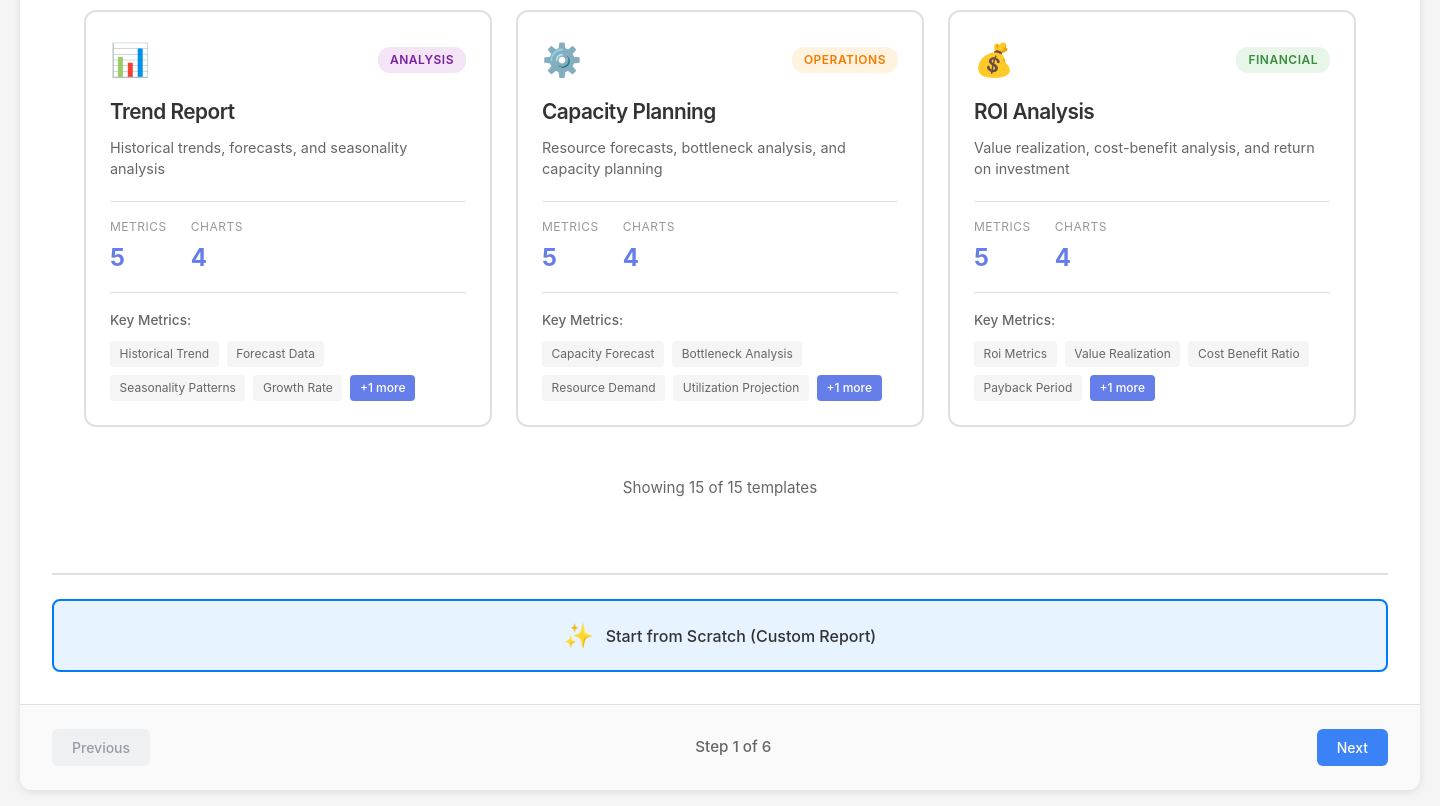
Test: ReportBuilder › shows metrics step after navigating through wizard
(page scrolled)
Click the button "Next": (1352, 748) [1317, 729, 1388, 766]
(page scrolled)
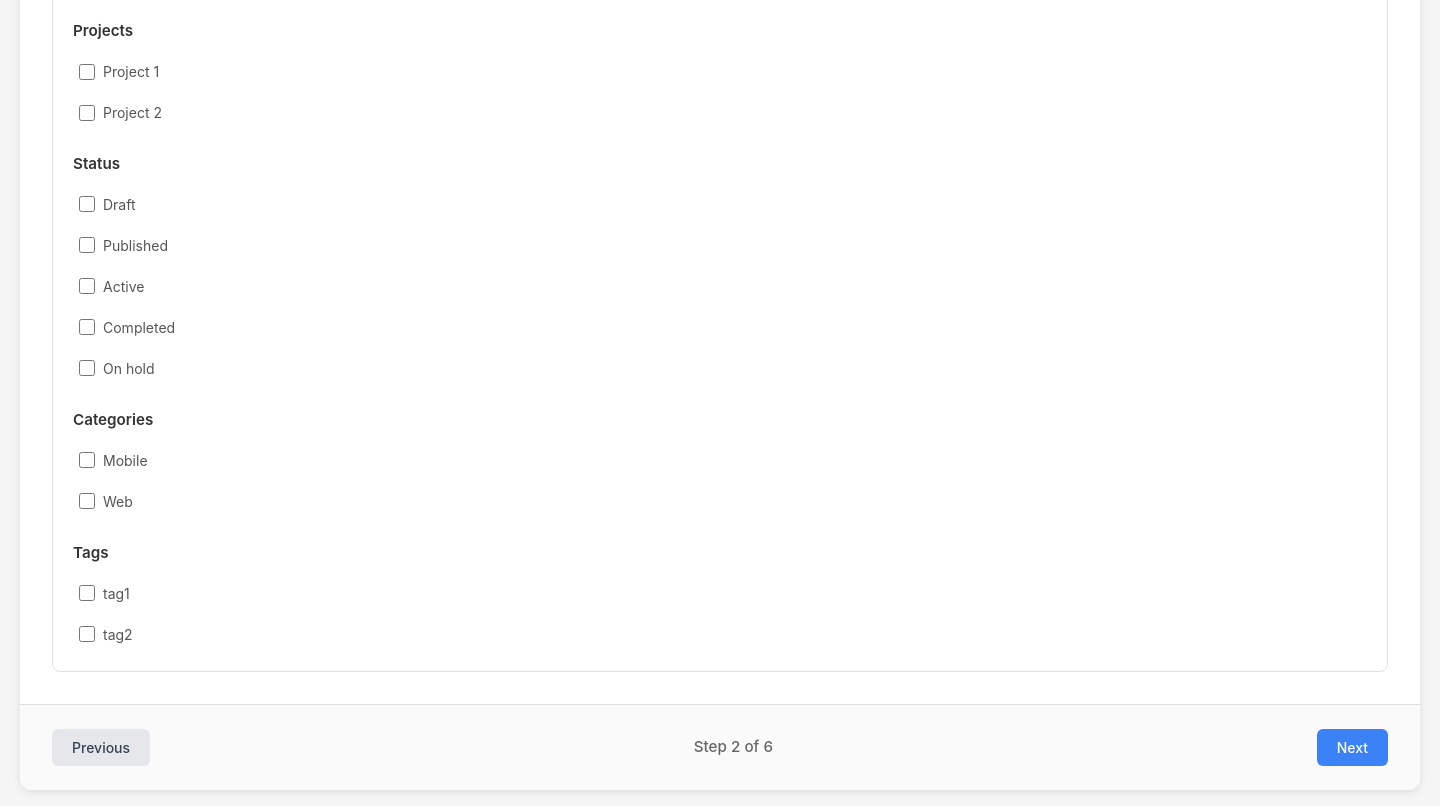
Click the button "Next": (1352, 747) [1317, 729, 1388, 766]
(page scrolled)
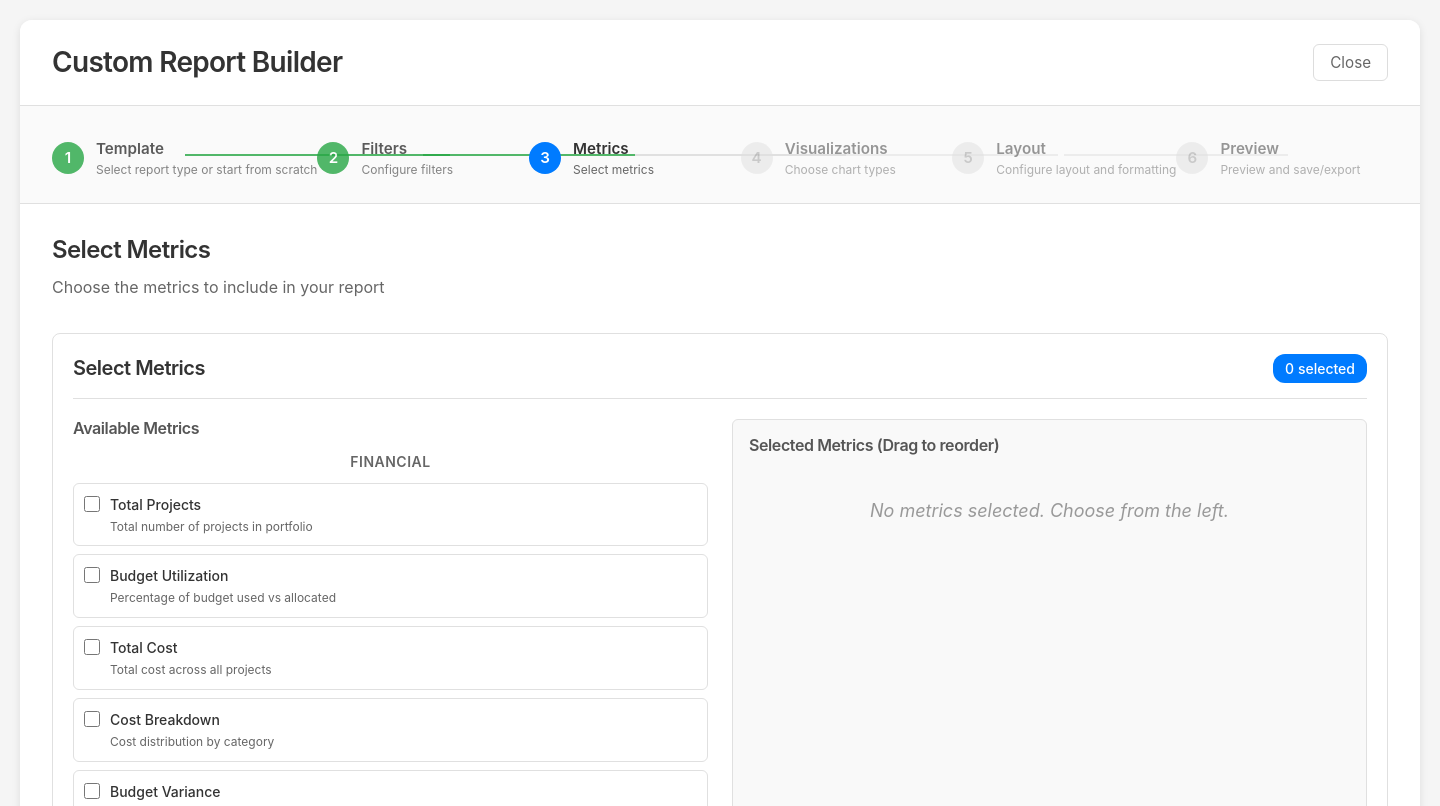
Result: the text "Choose the metrics to include in your report" is shown at [52, 277, 384, 297]
